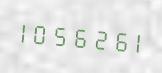five: (53, 17, 70, 52)
one: (125, 23, 142, 58), (17, 14, 34, 48)
six: (71, 19, 88, 53), (107, 22, 124, 56)
two: (89, 20, 106, 55)
zero: (35, 16, 52, 50)
